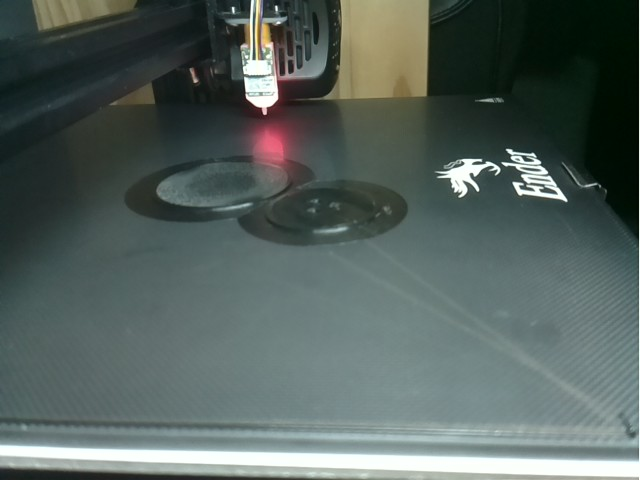right: (259, 162, 393, 243)
